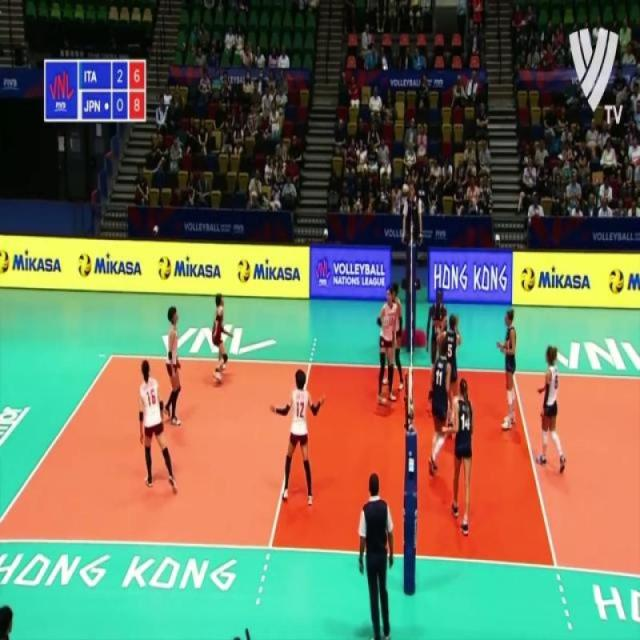volleyball: (608, 267, 626, 297), (521, 267, 536, 293), (237, 257, 251, 284), (78, 252, 92, 278), (158, 256, 171, 280), (0, 247, 10, 274)
